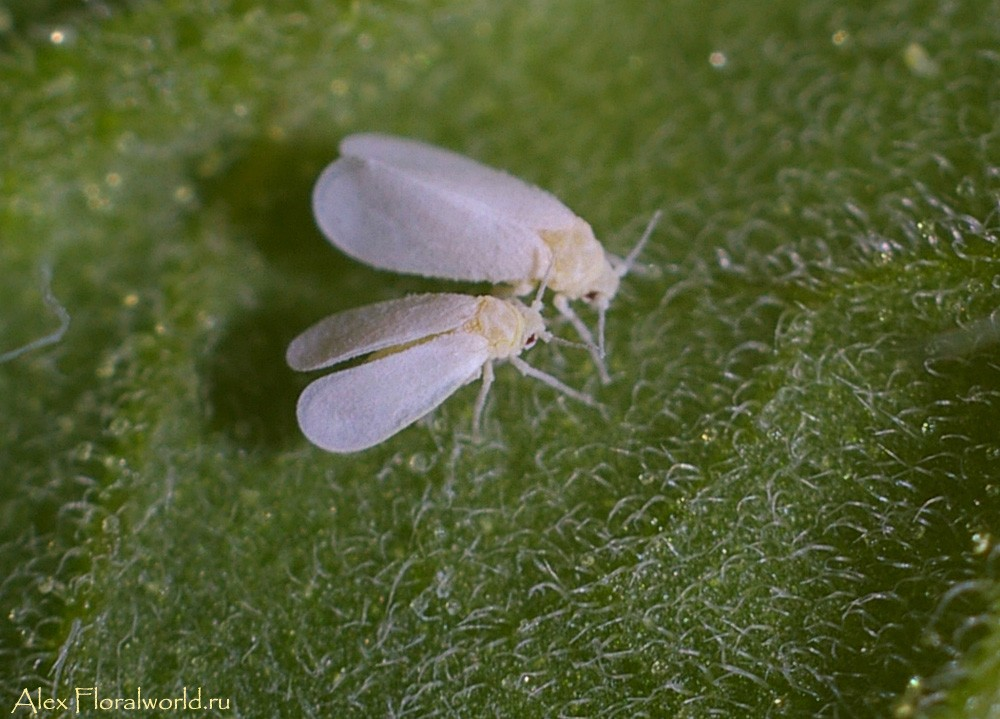Mosca Blanca: (296, 112, 699, 374), (264, 276, 618, 451)
